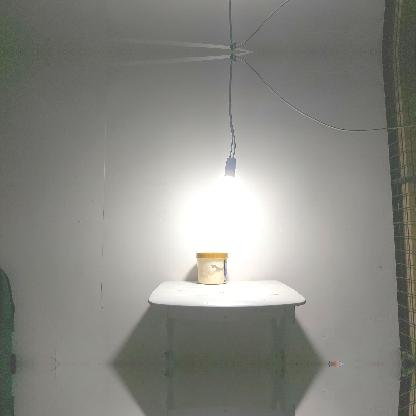Lady-s-Choice: (195, 251, 228, 283)
